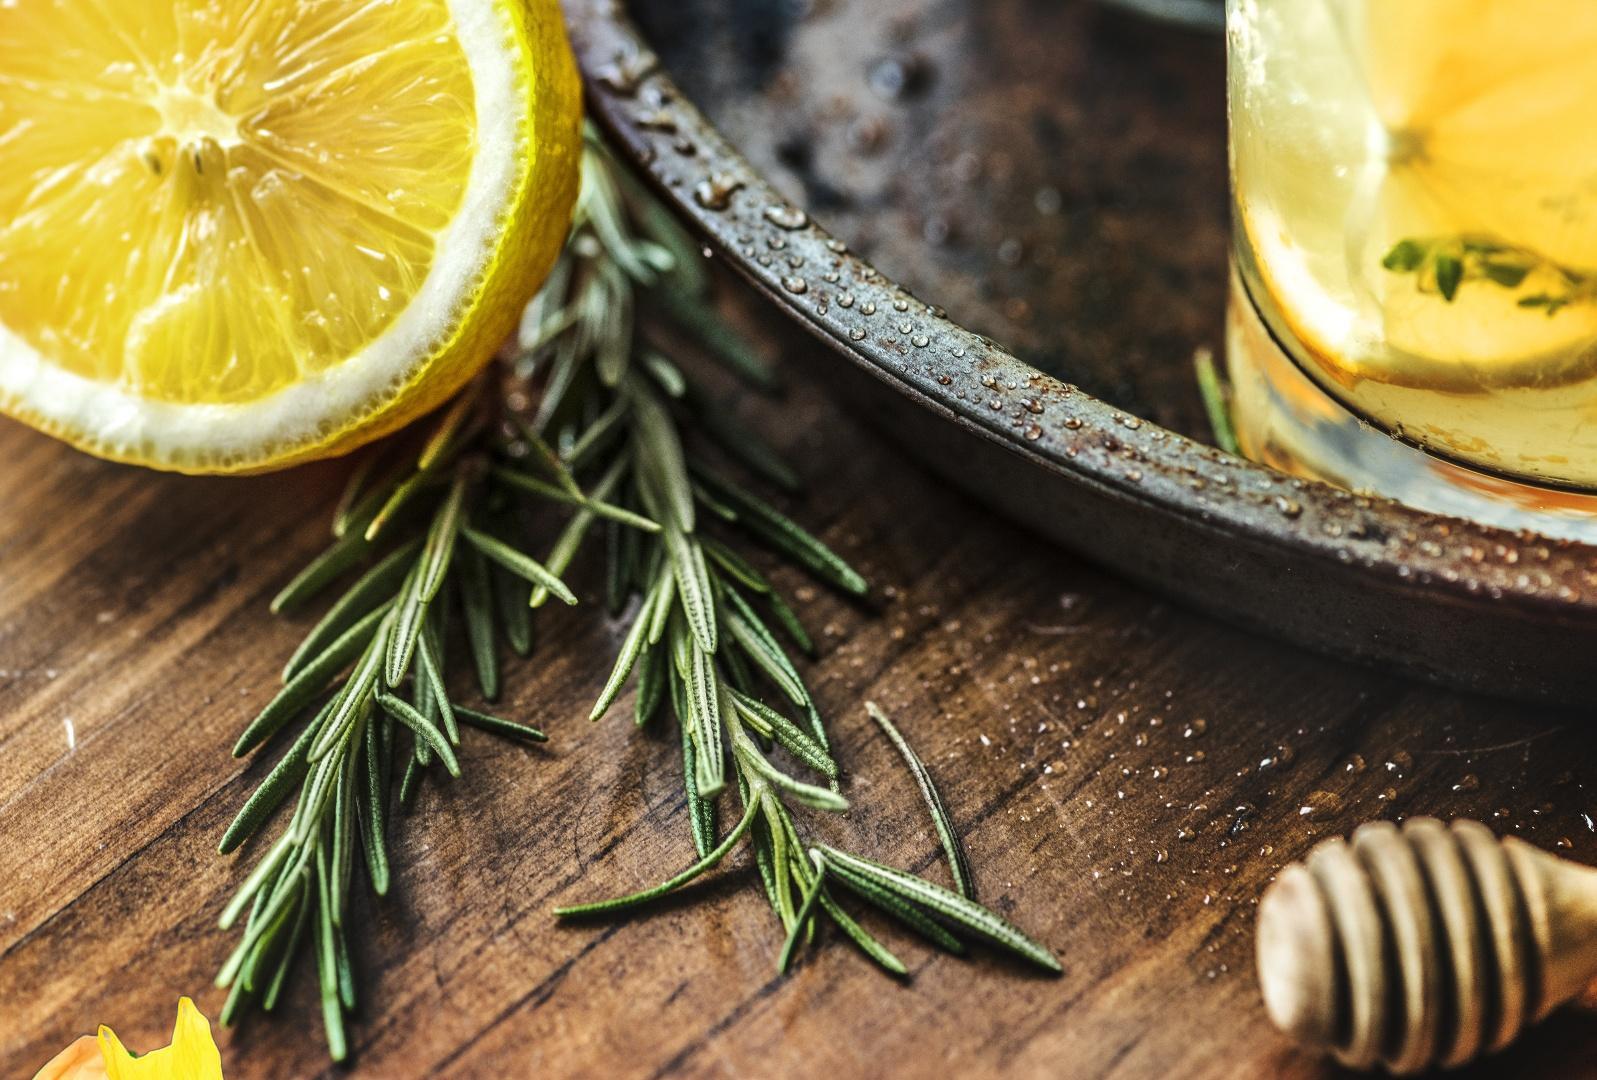plastic-bag: (16, 992, 281, 1080)
trashbox-cardboard: (1392, 943, 1597, 1080)
